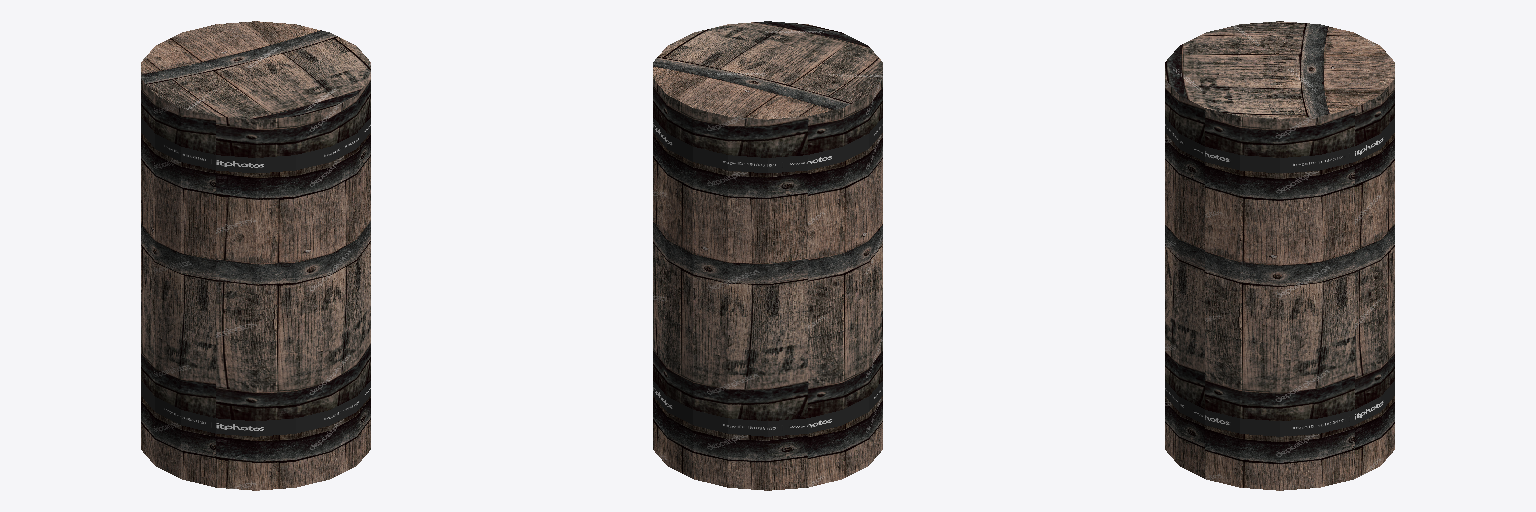
3 renders of one model, left to right at view 1: azimuth 30°, elevation 25°; view 2: azimuth 150°, elevation 25°; view 3: azimuth 270°, elevation 25°, orthographic.
Parts seen in each view (by area): view 1: barril; view 2: barril; view 3: barril.
Part boxes in pixels (left/top/right/bottom): barril: left=141, top=21, right=370, bottom=490; barril: left=653, top=21, right=882, bottom=490; barril: left=1165, top=21, right=1394, bottom=490.
Size of the model in its own units: 23.01 by 40.5 by 22.66.
Materials: 1 (1 with a texture image).